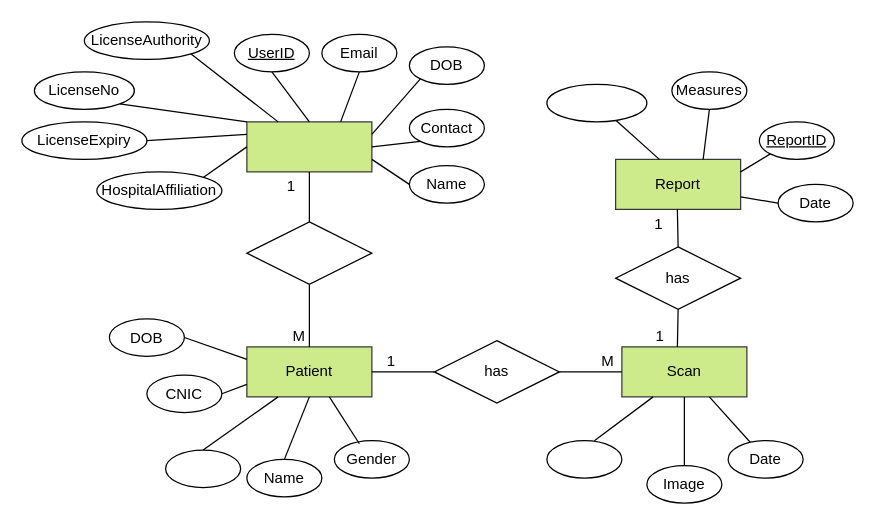
The diagram is 875 pixels wide and 525 high, and some of its shapes have lost their labels. Here are the shapes that lost their labels. From the top down, the box of each, then its label:
(546, 83, 647, 122): LesionMask
(246, 121, 372, 172): Practitioner
(246, 221, 372, 284): adds
(164, 449, 241, 488): PatientID
(546, 439, 622, 478): ScanID
